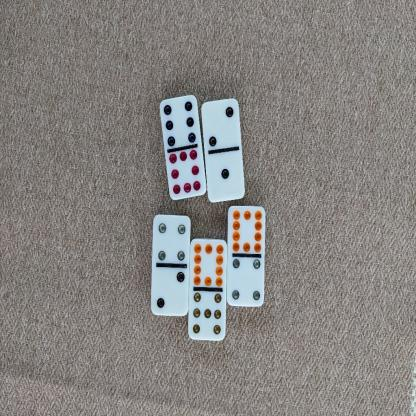pip-1: (205, 150, 245, 202)
pip-10: (188, 236, 226, 289), (226, 204, 266, 254)
pip-2: (200, 98, 240, 152), (150, 264, 188, 314)
pip-4: (225, 254, 265, 307), (152, 214, 190, 264)
pip-6: (158, 94, 196, 146)
pip-7: (188, 287, 226, 341)
pip-8: (168, 147, 206, 198)
